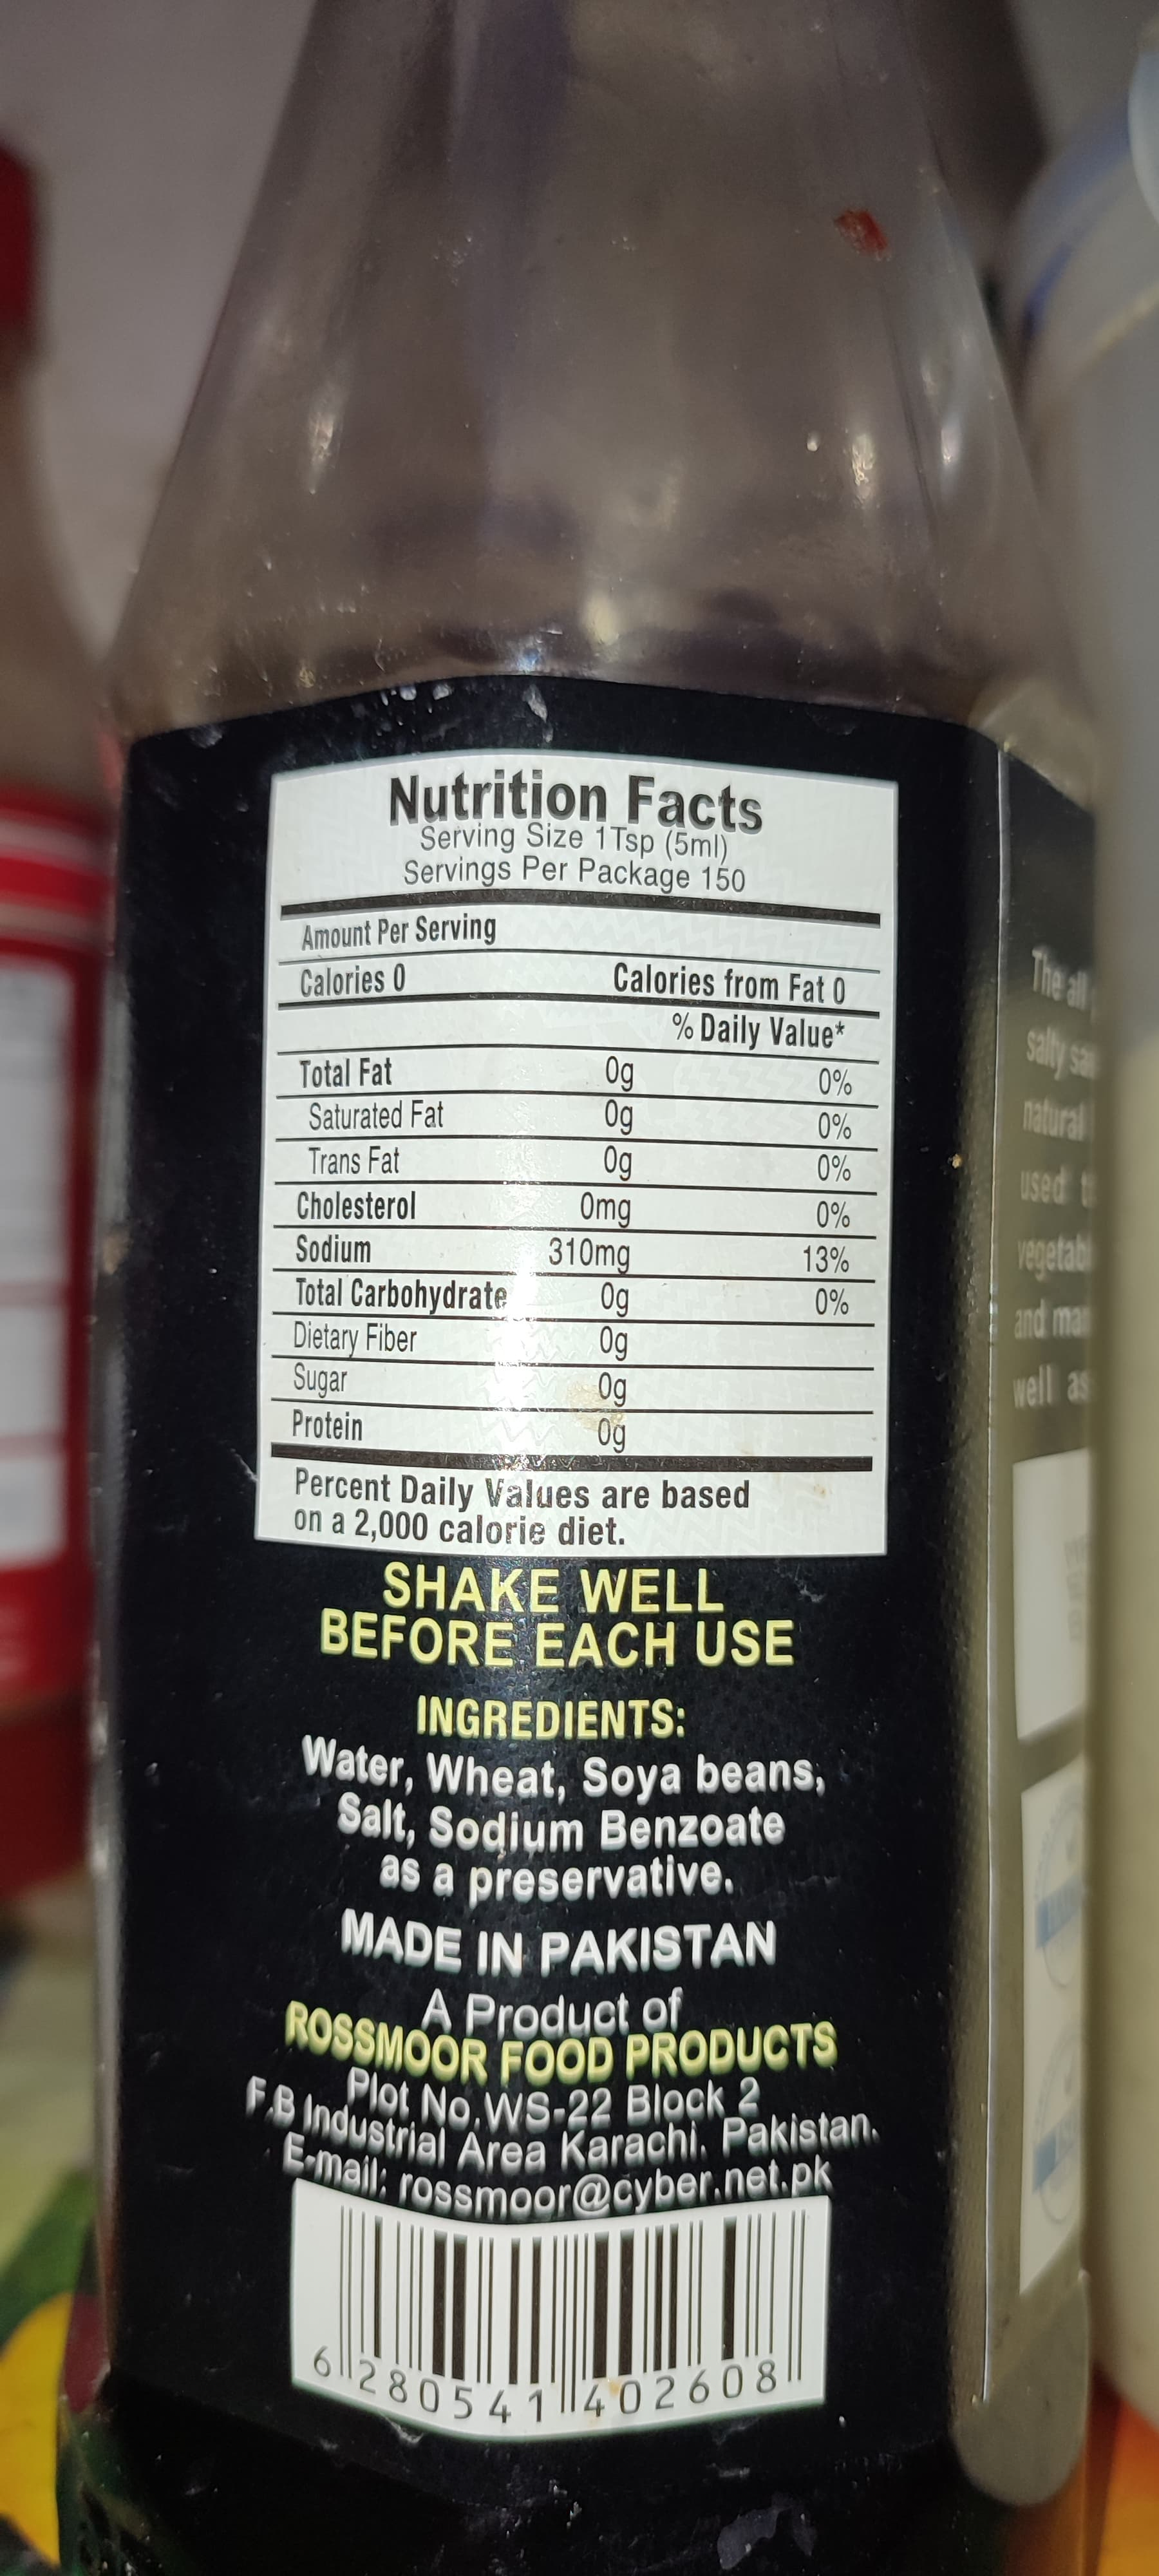table: (256, 752, 901, 1585)
